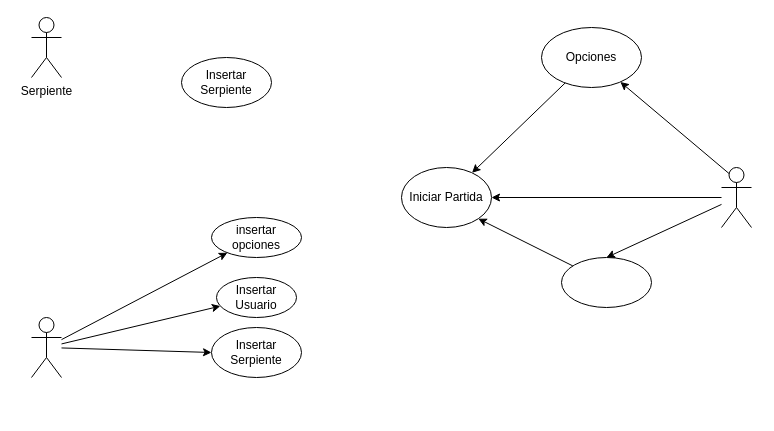
Image size: 774x431. Some labels were removed from this diagram. The centre of each missing label's shape, as x and y in pixels:
"BaseDatos" goes at point (46, 347).
"Información" goes at point (606, 282).
"Usuario" goes at point (736, 197).
